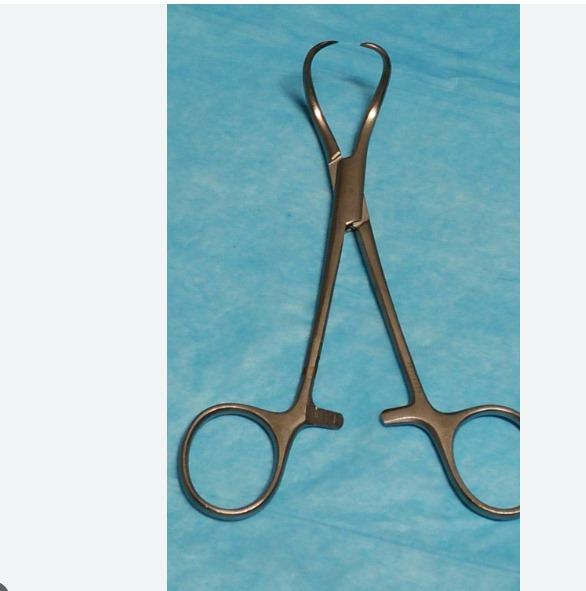Backhaus Towel Clamp: (183, 24, 520, 518)
